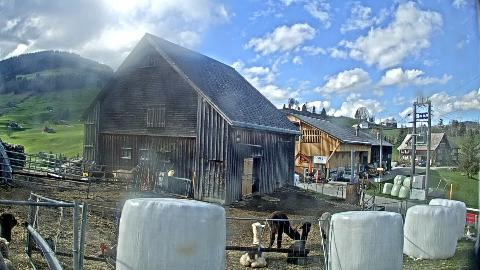car: (342, 168, 360, 180), (418, 161, 426, 167)
sheep: (266, 211, 302, 249), (239, 222, 267, 268), (286, 220, 312, 266), (112, 166, 142, 190), (0, 212, 17, 244), (0, 238, 16, 270), (87, 163, 107, 185), (320, 212, 332, 244), (252, 176, 260, 192), (252, 176, 256, 186)
